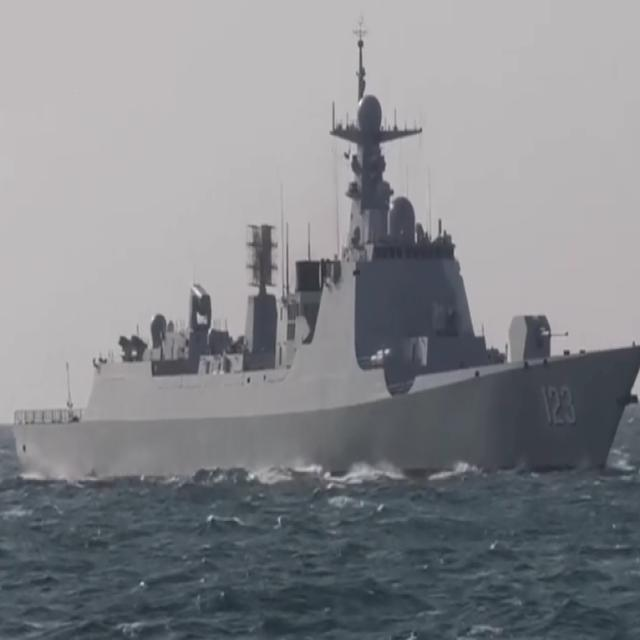navalvessels: (0, 26, 640, 488)
